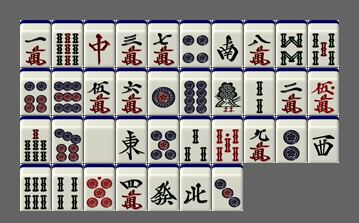0m: (308, 68, 339, 115)
0p: (84, 164, 115, 211)
0s: (212, 116, 243, 163)
1m: (20, 20, 51, 67)
1p: (148, 68, 179, 115)
1s: (212, 68, 243, 115)
1z: (116, 116, 147, 163)
2m: (276, 68, 307, 115)
2p: (276, 116, 307, 163)
2s: (244, 68, 275, 115)
2z: (212, 20, 243, 67)
3m: (116, 20, 147, 67)
3p: (212, 164, 243, 211)
3s: (180, 116, 211, 163)
3z: (308, 116, 339, 163)
4m: (116, 164, 147, 211)
4p: (180, 20, 211, 67)
4s: (52, 164, 83, 211)
4z: (180, 164, 211, 211)
5m: (84, 68, 115, 115)
5p: (148, 116, 179, 163)
5s: (308, 20, 339, 67)
5z: (84, 116, 115, 163)
6m: (116, 68, 147, 115)
6p: (20, 68, 51, 115)
6s: (20, 164, 51, 211)
6z: (148, 164, 179, 211)
7m: (148, 20, 179, 67)
7p: (52, 116, 83, 163)
7s: (20, 116, 51, 163)
7z: (84, 20, 115, 67)
8m: (244, 20, 275, 67)
8p: (180, 68, 211, 115)
8s: (276, 20, 307, 67)
9m: (244, 116, 275, 163)
9p: (52, 68, 83, 115)
9s: (52, 20, 83, 67)
